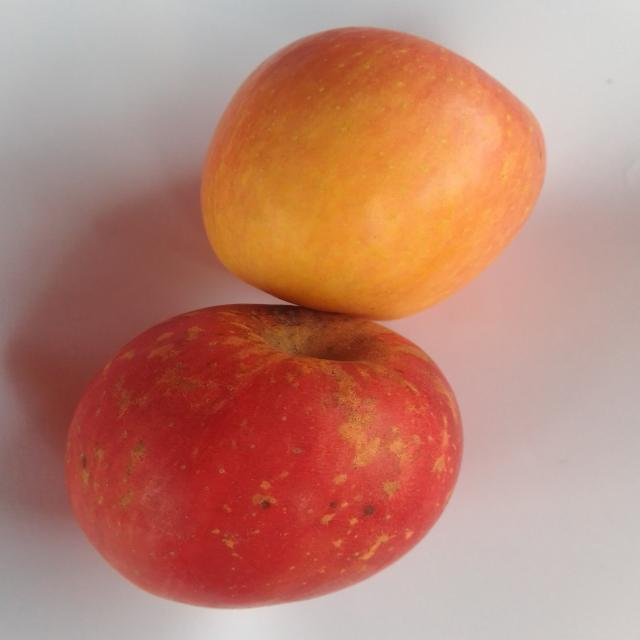Fresh Apple: (62, 302, 463, 613), (200, 17, 543, 308)
